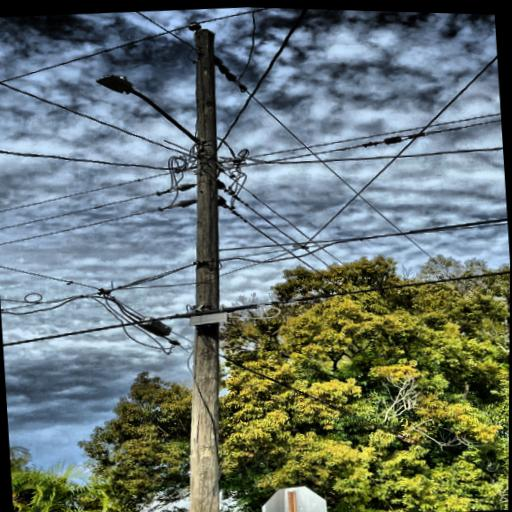insulator: (186, 20, 202, 32)
pole: (126, 17, 263, 512)
street light: (93, 65, 216, 158)
